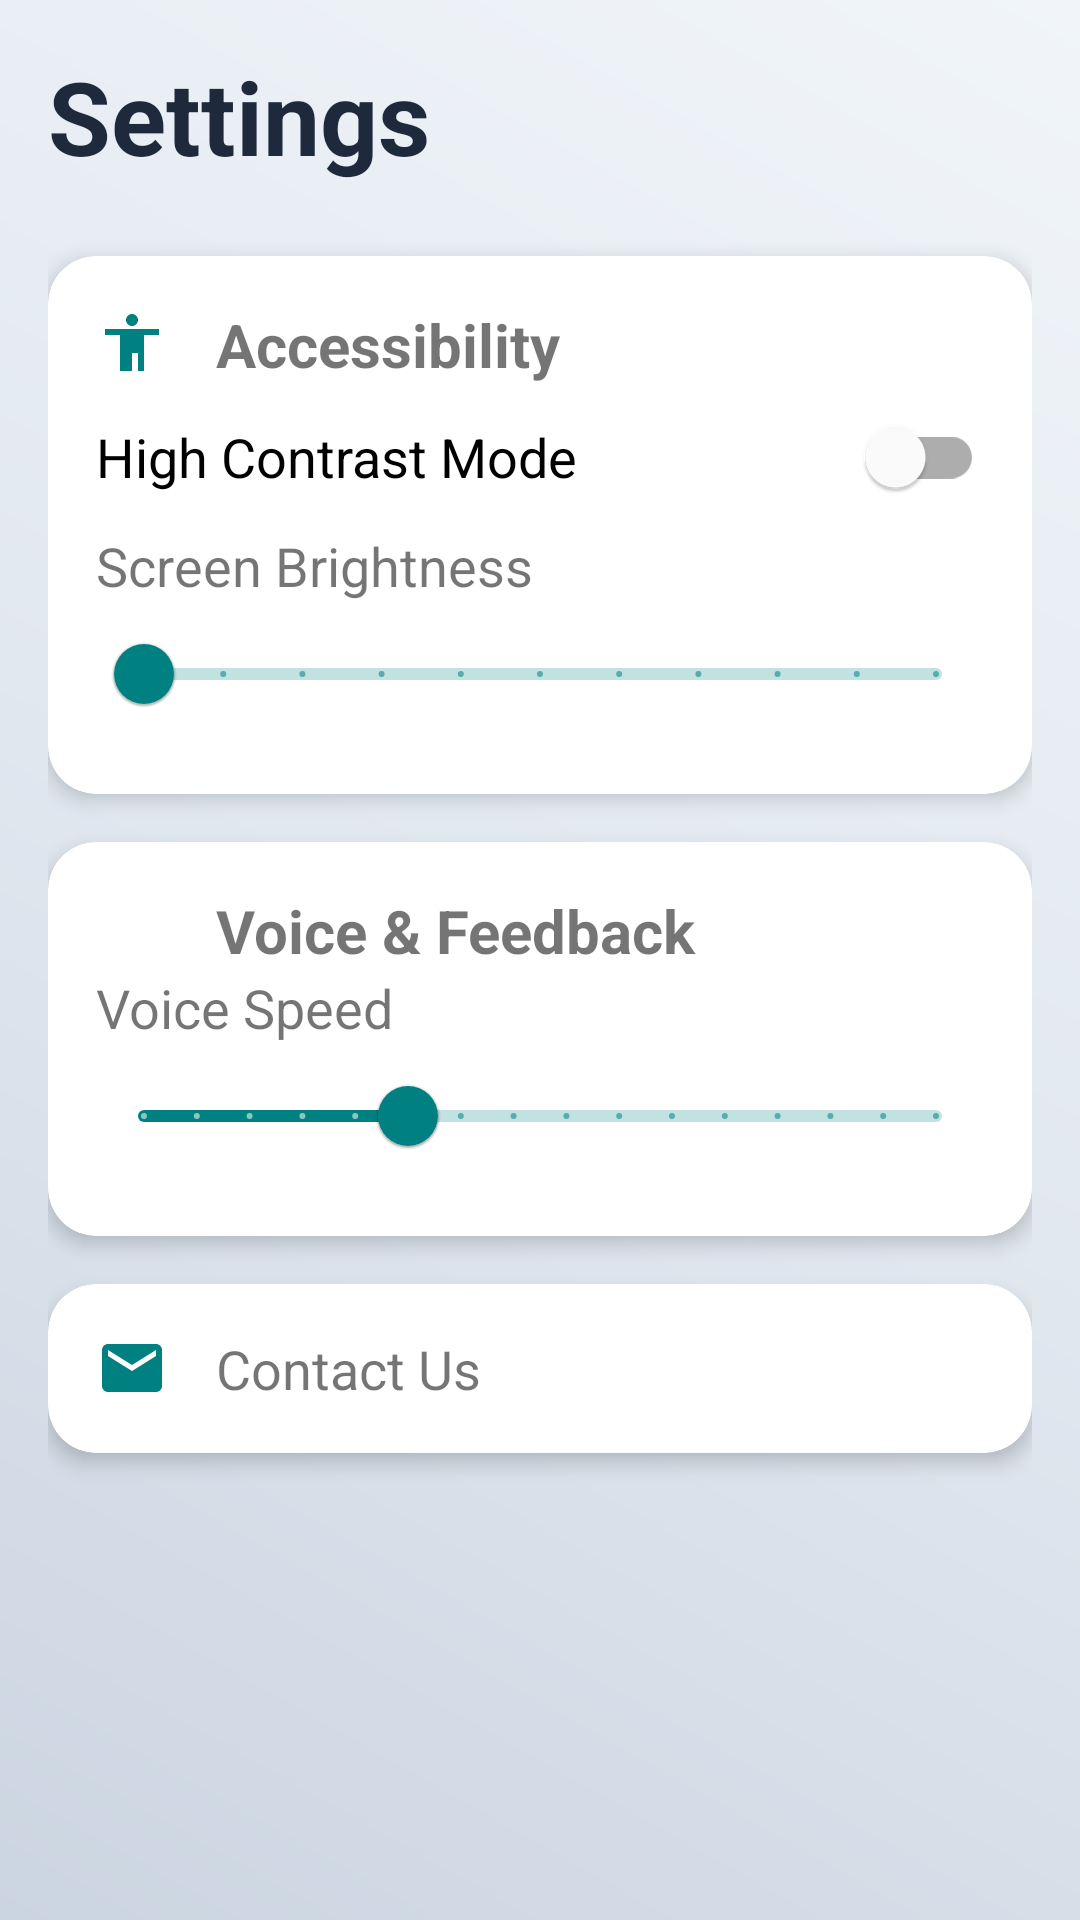

Named icons in this screenshot (1080 x 1920) and their bounding boxes, (x1, y1, x2, y2):
email: (102, 1344, 162, 1392)
